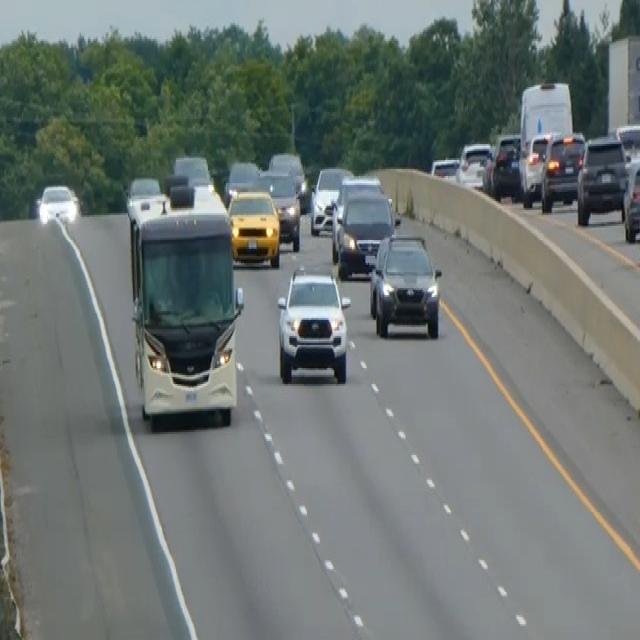bus: (124, 170, 245, 428)
car: (367, 231, 442, 340), (334, 187, 396, 279), (576, 132, 627, 226), (226, 185, 281, 268), (256, 167, 301, 251), (539, 130, 585, 212), (309, 163, 353, 234), (484, 131, 521, 201), (267, 149, 308, 210), (520, 130, 553, 204), (455, 139, 492, 190), (37, 182, 77, 228), (223, 156, 260, 204), (621, 154, 639, 242), (172, 151, 212, 187), (429, 154, 459, 180)
jeep: (274, 263, 352, 386)
